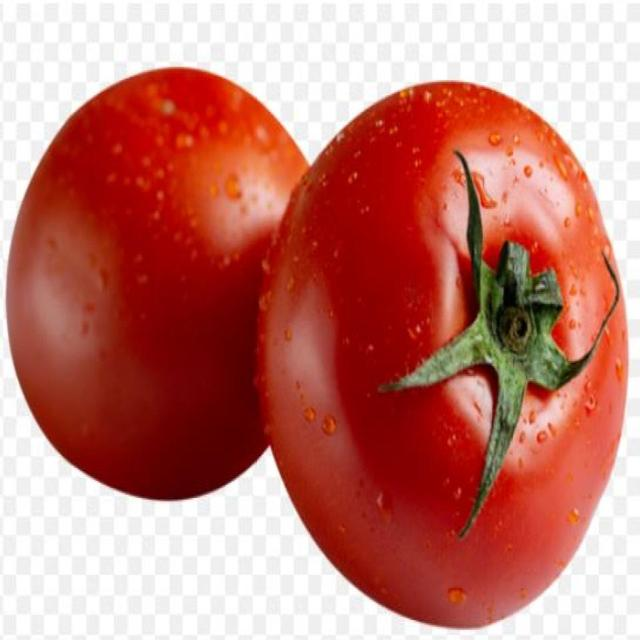Healthy Fruit: (107, 184, 292, 372)
